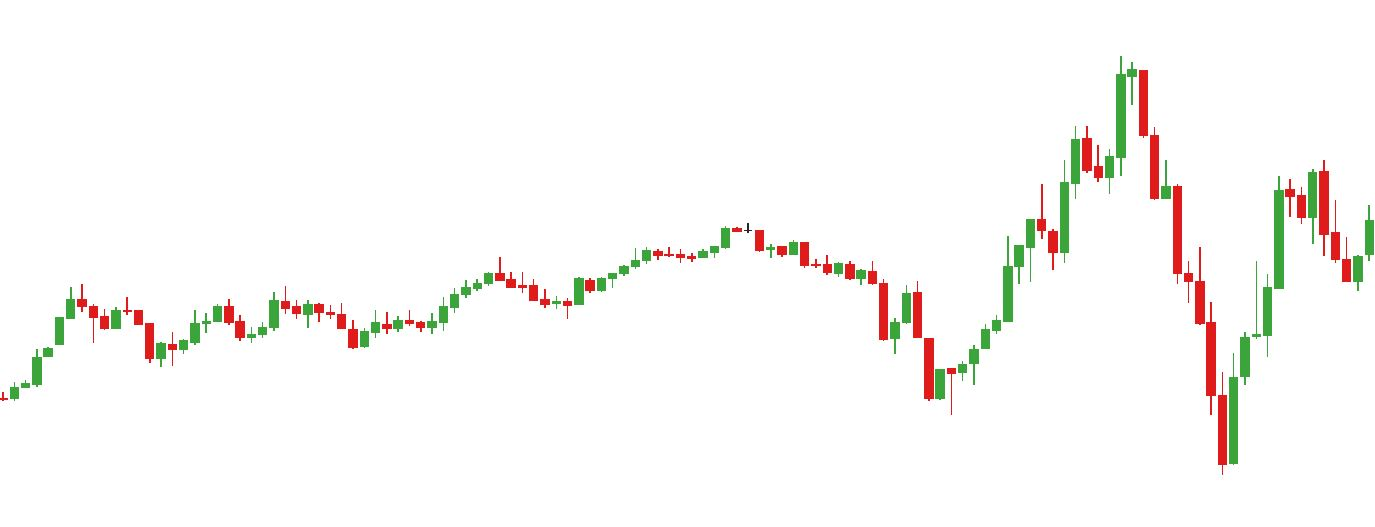buy: (933, 261, 1242, 474)
